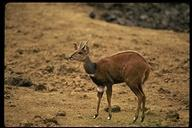antelope: (67, 41, 153, 122)
